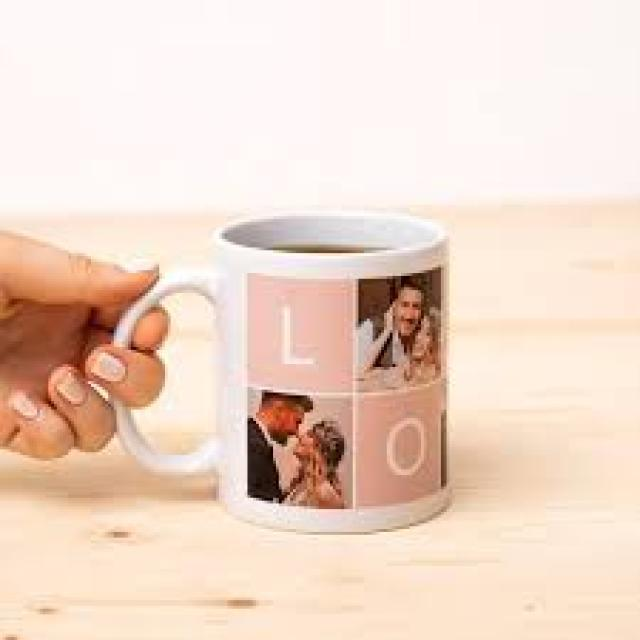taza: (111, 210, 452, 534)
